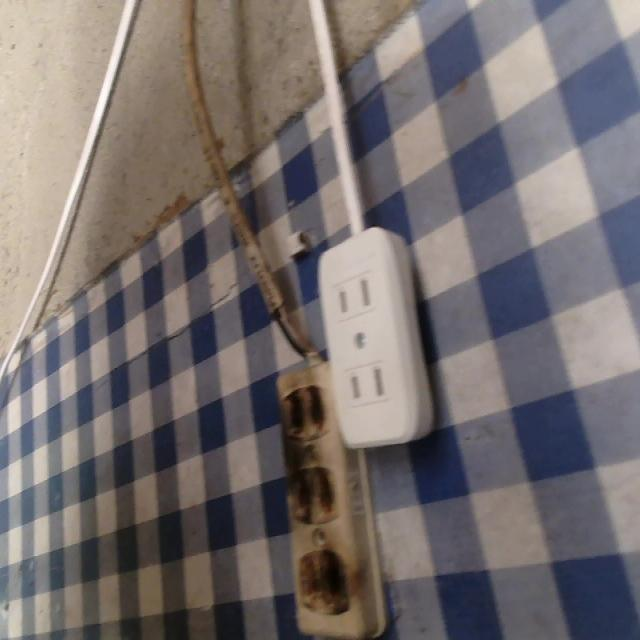-: (295, 542, 353, 614), (284, 462, 342, 522), (280, 380, 329, 441)
